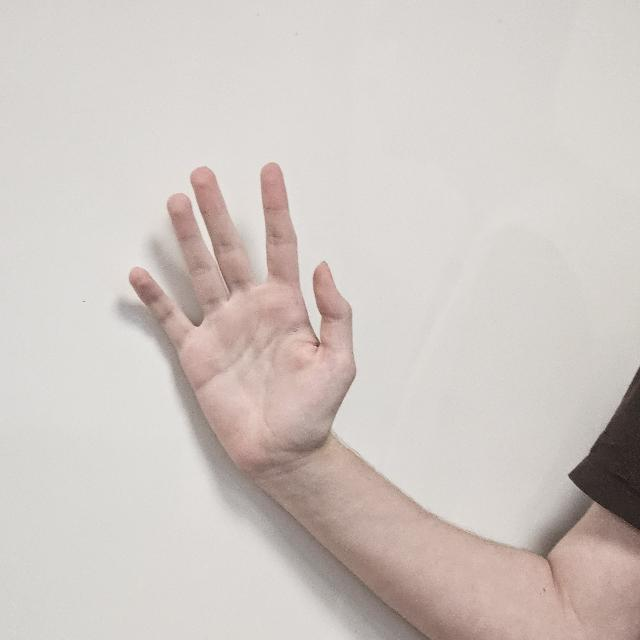X: (124, 160, 356, 476)
